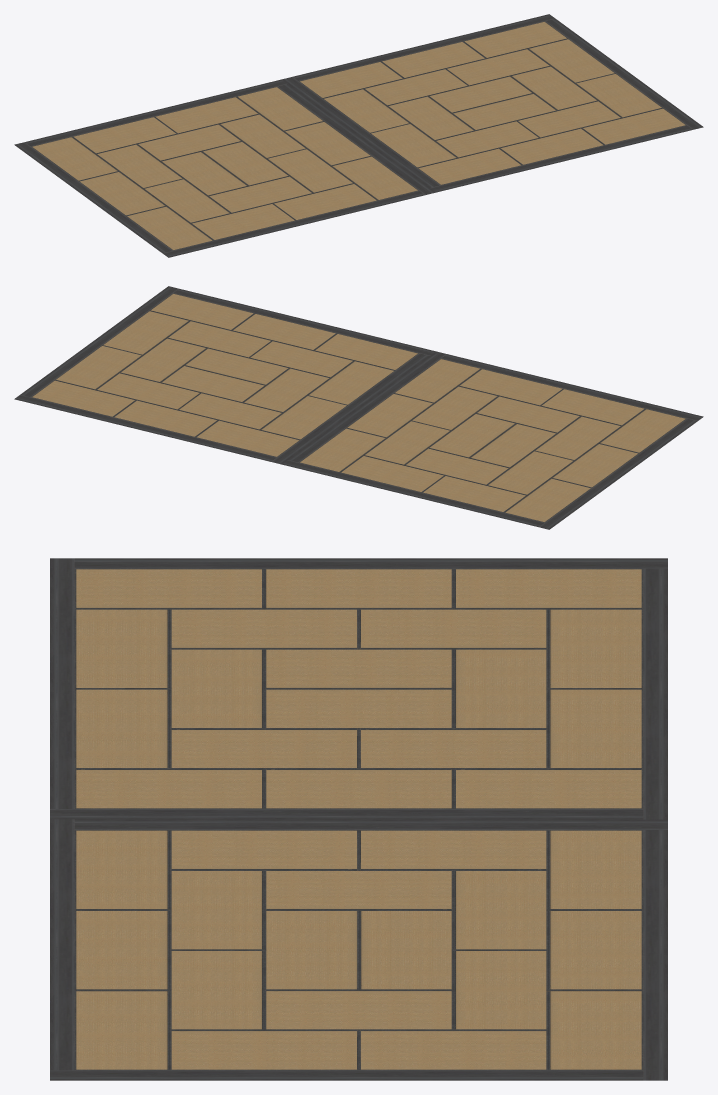
The model's file is Homeworld_Interior_Dq_Room_M_Floor_01_Vo.fbx.
3 views of the same model, one above another, from view 1: azimuth 30°, elevation 25°; view 2: azimuth 150°, elevation 25°; view 3: azimuth 270°, elevation 25° (orthographic). The views are drawn at different scales.
Parts seen in each view (by area): view 1: Homeworld_Interior_Dq_Room_A_Floor_01_Vo (1), Homeworld_Interior_Dq_Room_A_Floor_01_Vo (2); view 2: Homeworld_Interior_Dq_Room_A_Floor_01_Vo (1), Homeworld_Interior_Dq_Room_A_Floor_01_Vo (2); view 3: Homeworld_Interior_Dq_Room_A_Floor_01_Vo (1), Homeworld_Interior_Dq_Room_A_Floor_01_Vo (2).
Boxes of the visible parts, x1,y1,x2,y2 form: Homeworld_Interior_Dq_Room_A_Floor_01_Vo (1): (14,79,435,257); Homeworld_Interior_Dq_Room_A_Floor_01_Vo (2): (282,14,703,192); Homeworld_Interior_Dq_Room_A_Floor_01_Vo (1): (282,351,703,529); Homeworld_Interior_Dq_Room_A_Floor_01_Vo (2): (14,286,435,464); Homeworld_Interior_Dq_Room_A_Floor_01_Vo (1): (50,558,667,819); Homeworld_Interior_Dq_Room_A_Floor_01_Vo (2): (50,819,667,1080).
Bounding box in the file's own units: 20 × 0 × 10.
